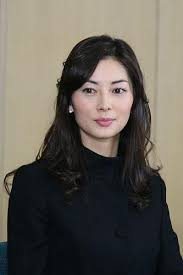asian_female: (62, 41, 144, 154)
